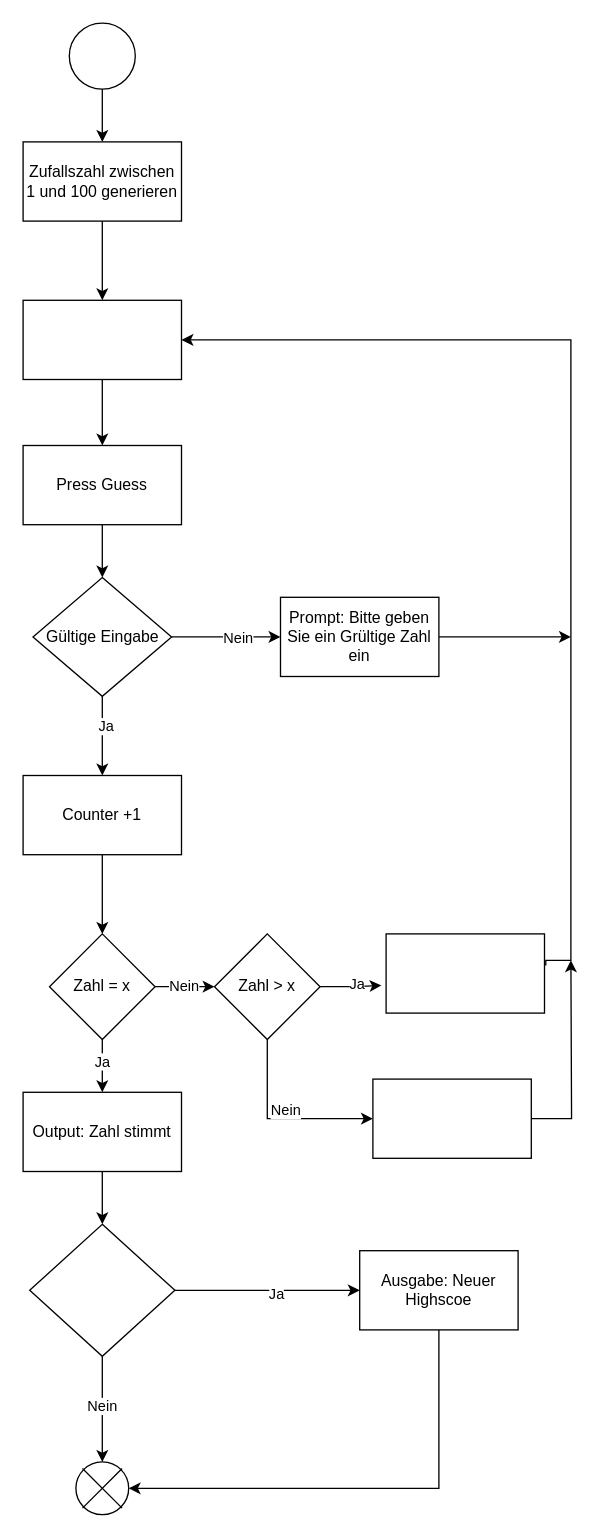
This 606x1538 diagram has some shape labels left out. The centre of each missing label's shape, as x and y in pixels:
"Number of Guesses < Best Score" goes at point (101, 1289).
"Output: Zahl ist zu groß" goes at point (464, 973).
"Output: Zahl ist zu klein" goes at point (451, 1118).
"Zahl eingeben" goes at point (102, 339).
